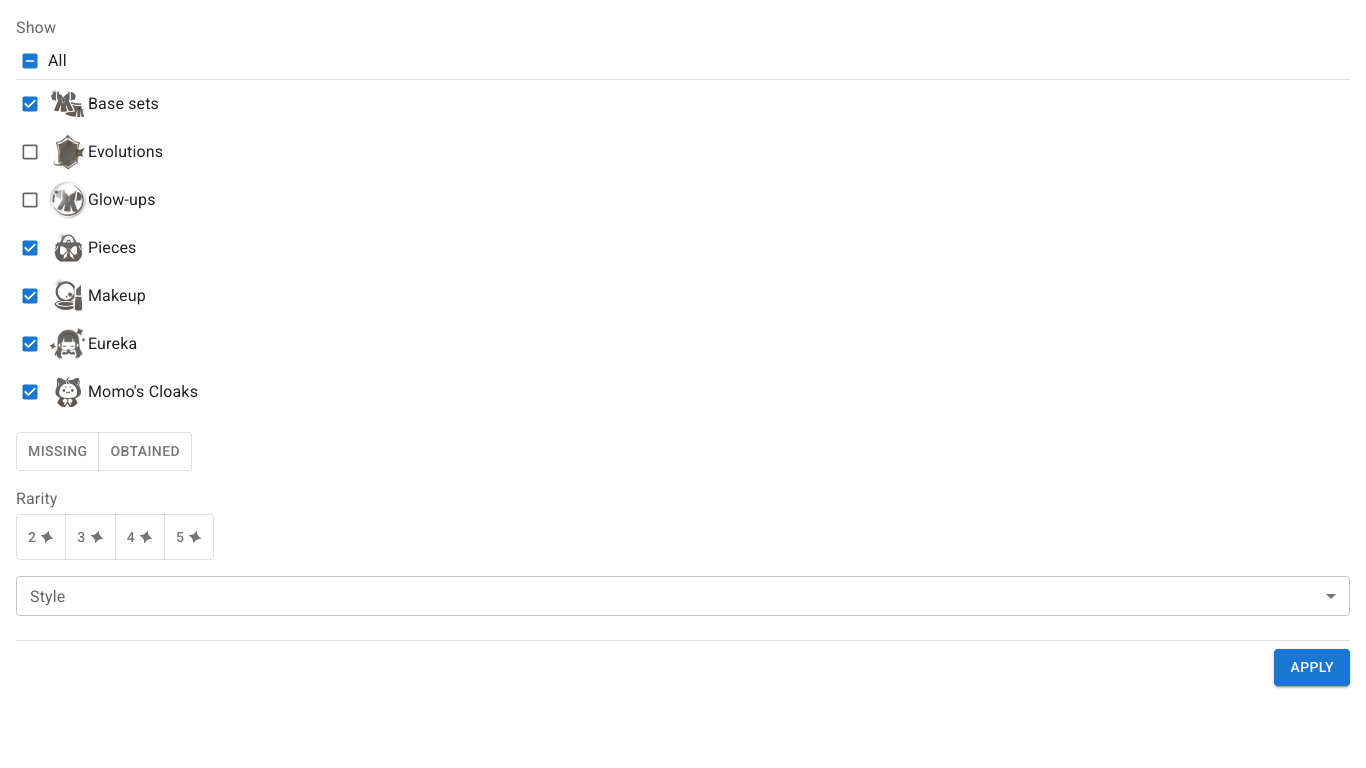
it: SeasonFilterBody › shows Clear all once a filter axis is set, and clicking it clears the axis
Click the button "5".
click(189, 537)  # box [164,514,214,560]
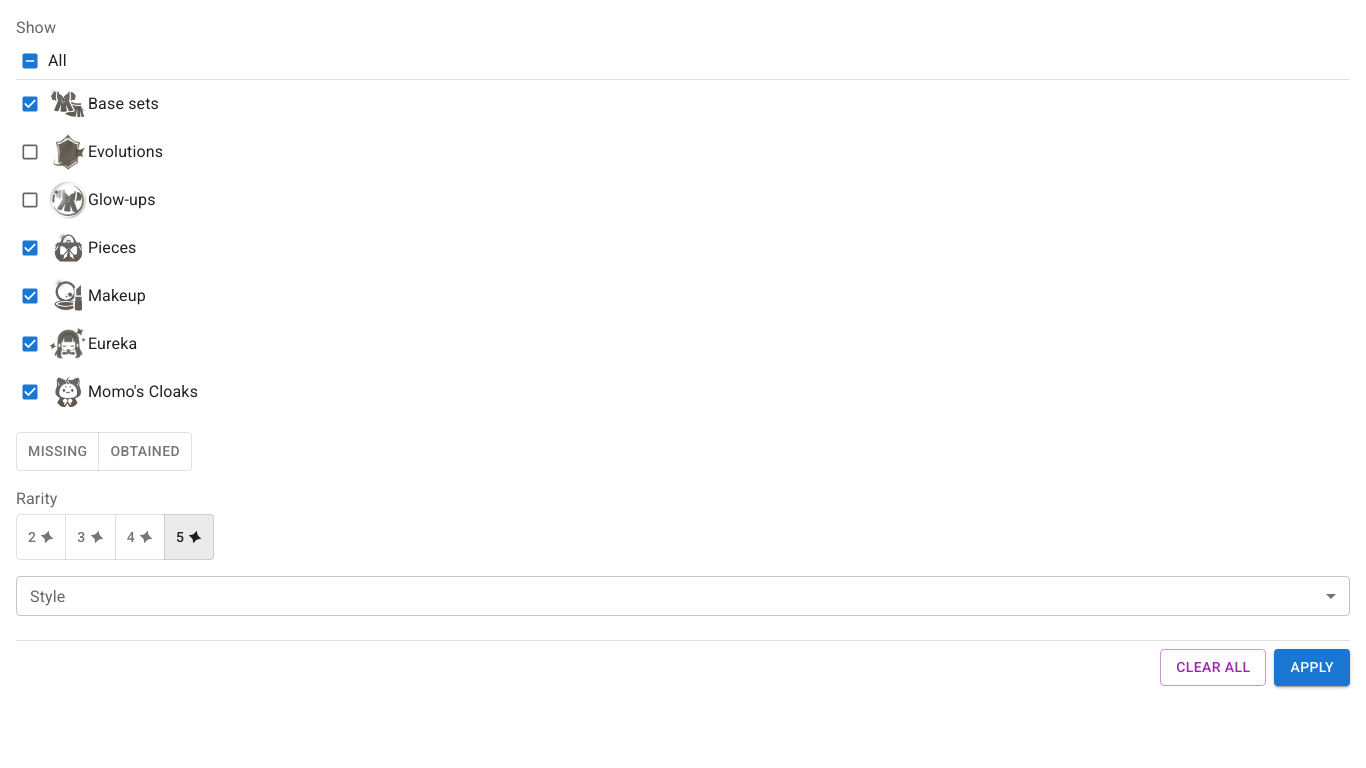
Check: the button "Clear all" is shown
Click the button "Clear all".
click(1213, 667)  # box [1160,649,1266,686]
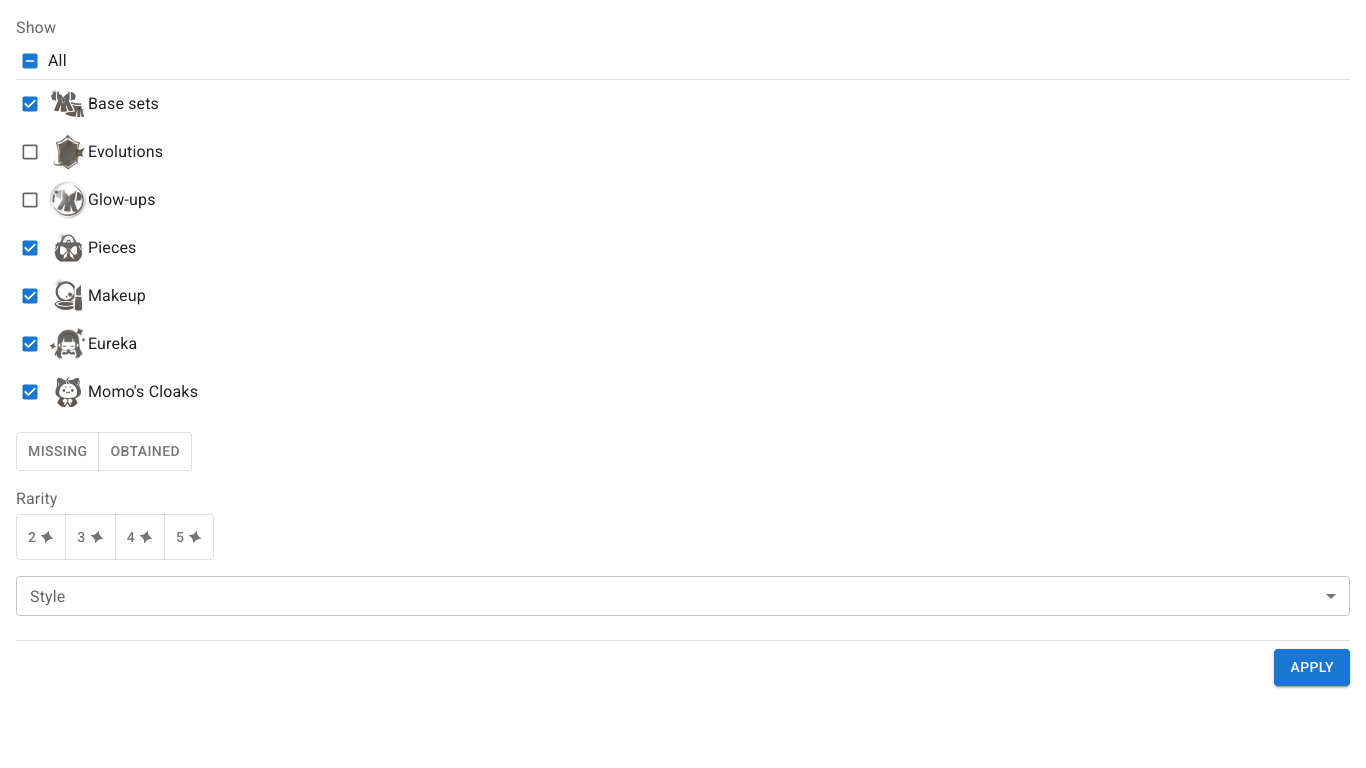
Check: the button "Clear all" is gone
